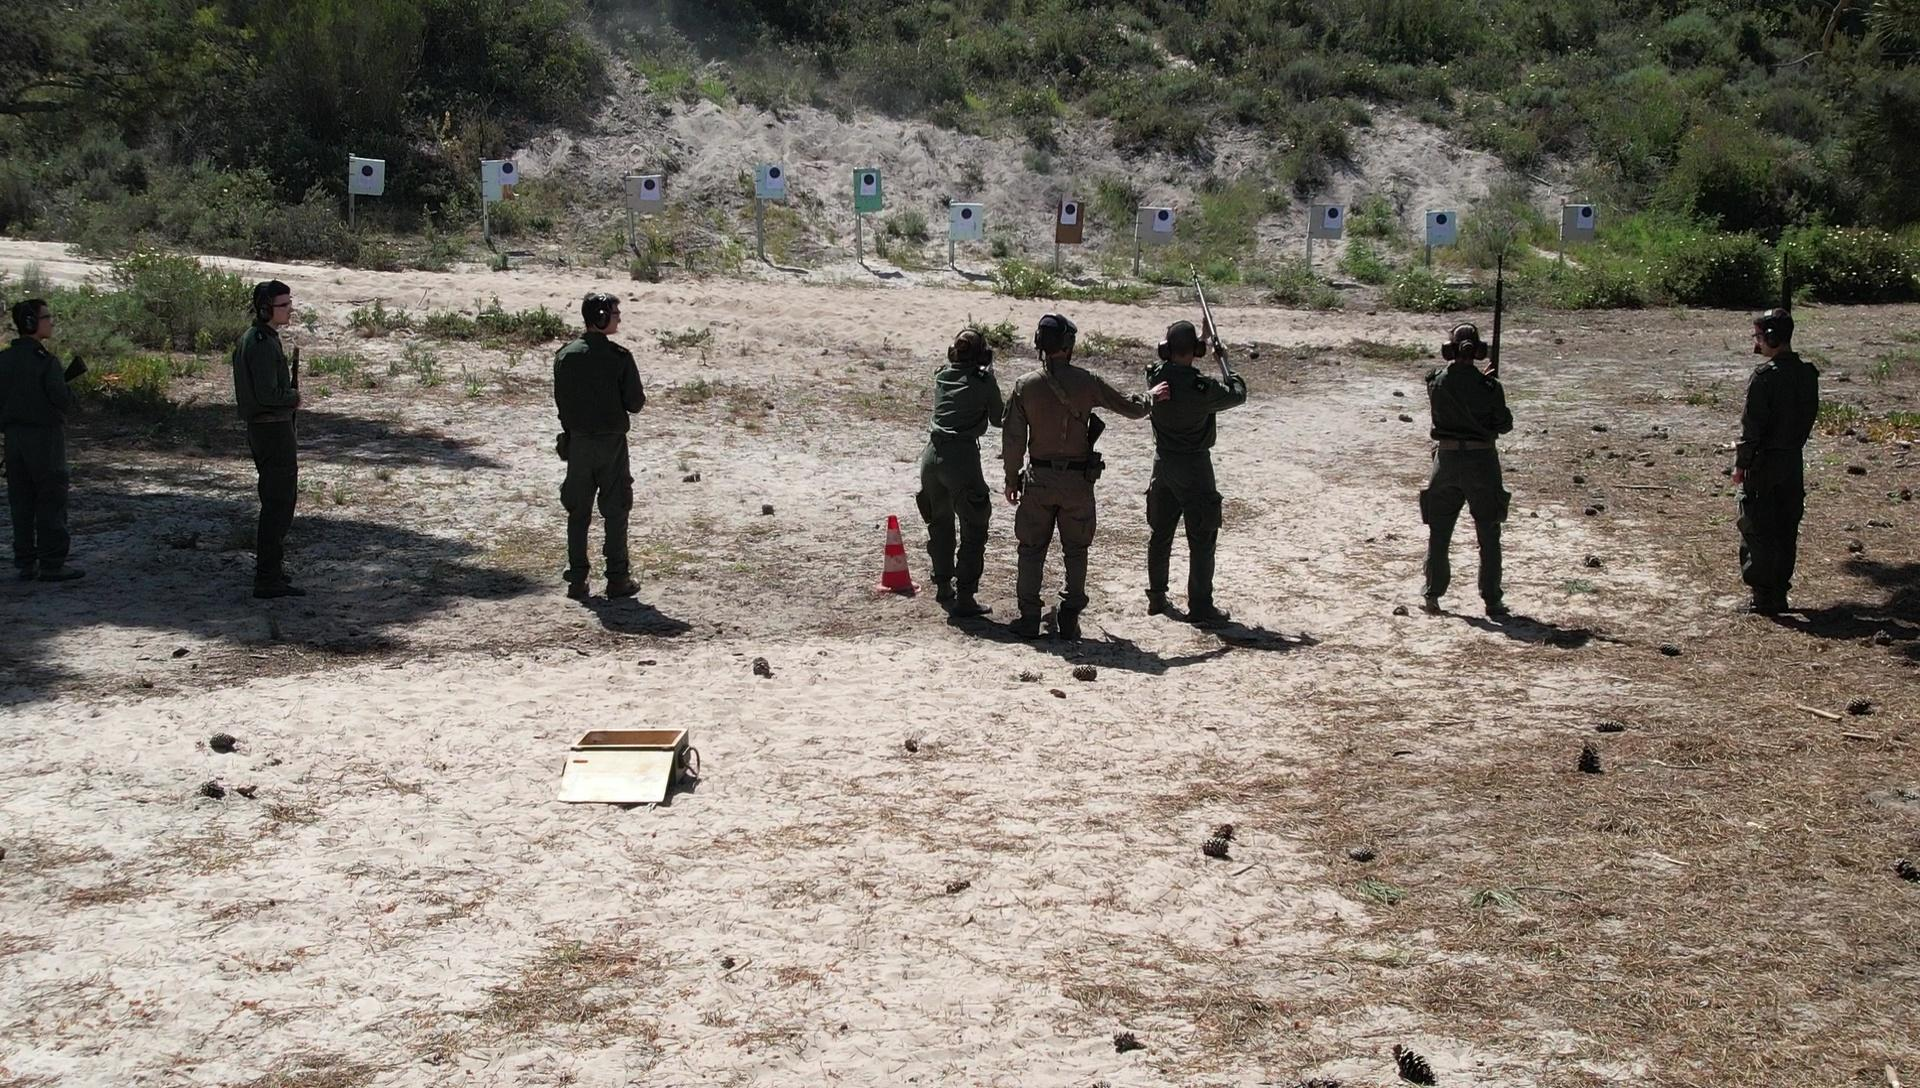Soldier: (518, 301, 678, 640), (195, 301, 345, 636), (1713, 251, 1840, 642), (993, 297, 1116, 642), (910, 319, 1022, 655), (0, 319, 105, 621), (1423, 286, 1516, 624), (1141, 334, 1226, 628)
